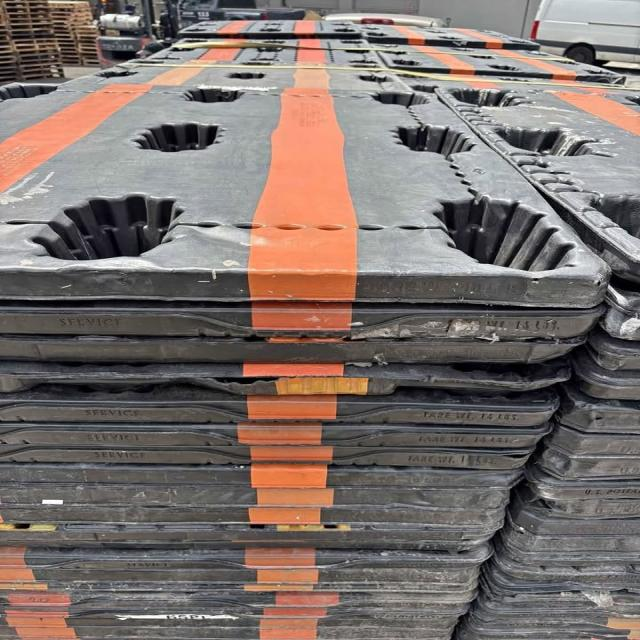non-igps: (0, 77, 624, 323), (429, 81, 640, 287), (0, 301, 615, 357), (0, 388, 573, 436), (0, 412, 564, 460), (0, 356, 580, 401), (0, 331, 597, 373), (0, 438, 551, 476), (0, 516, 523, 556), (0, 456, 533, 492), (0, 536, 501, 573), (0, 575, 487, 610), (0, 481, 516, 512), (0, 502, 521, 532), (0, 556, 489, 587), (0, 596, 477, 623), (367, 40, 630, 88), (0, 614, 463, 640), (489, 497, 640, 567), (140, 36, 394, 72), (475, 554, 640, 602), (509, 466, 640, 524), (468, 584, 639, 621), (451, 606, 640, 639), (351, 22, 546, 53), (485, 549, 640, 587), (525, 435, 640, 483), (551, 376, 640, 438), (172, 16, 366, 42), (461, 604, 640, 632), (562, 343, 640, 405), (530, 426, 640, 462), (577, 325, 640, 373), (595, 291, 640, 345), (17, 62, 66, 72), (19, 67, 65, 77), (20, 72, 66, 82), (16, 58, 64, 67), (1, 6, 53, 14), (2, 0, 52, 8), (5, 17, 54, 25), (16, 54, 63, 62), (3, 12, 53, 19), (6, 29, 57, 35), (8, 34, 57, 40), (14, 49, 63, 55), (12, 44, 60, 50), (5, 24, 55, 29), (10, 40, 60, 44), (66, 21, 95, 27), (70, 11, 94, 18), (70, 15, 94, 22), (72, 6, 93, 14), (0, 77, 23, 84), (76, 30, 102, 36), (76, 26, 102, 32), (0, 56, 19, 64), (60, 60, 82, 66), (0, 71, 21, 77), (79, 43, 100, 49), (78, 40, 99, 46), (0, 68, 20, 74), (78, 35, 101, 40), (0, 62, 19, 68), (0, 46, 16, 53), (0, 52, 18, 58), (52, 16, 70, 22), (78, 48, 99, 53), (82, 60, 102, 65), (60, 52, 80, 57), (56, 39, 76, 44), (0, 40, 14, 47), (55, 35, 74, 40), (53, 30, 72, 35), (50, 8, 73, 12), (0, 34, 13, 41), (53, 21, 70, 26), (60, 56, 81, 60), (51, 12, 72, 16), (79, 52, 99, 56), (81, 56, 100, 60), (59, 48, 78, 52), (58, 44, 76, 48), (53, 26, 70, 30), (0, 29, 11, 35), (0, 25, 11, 30)
